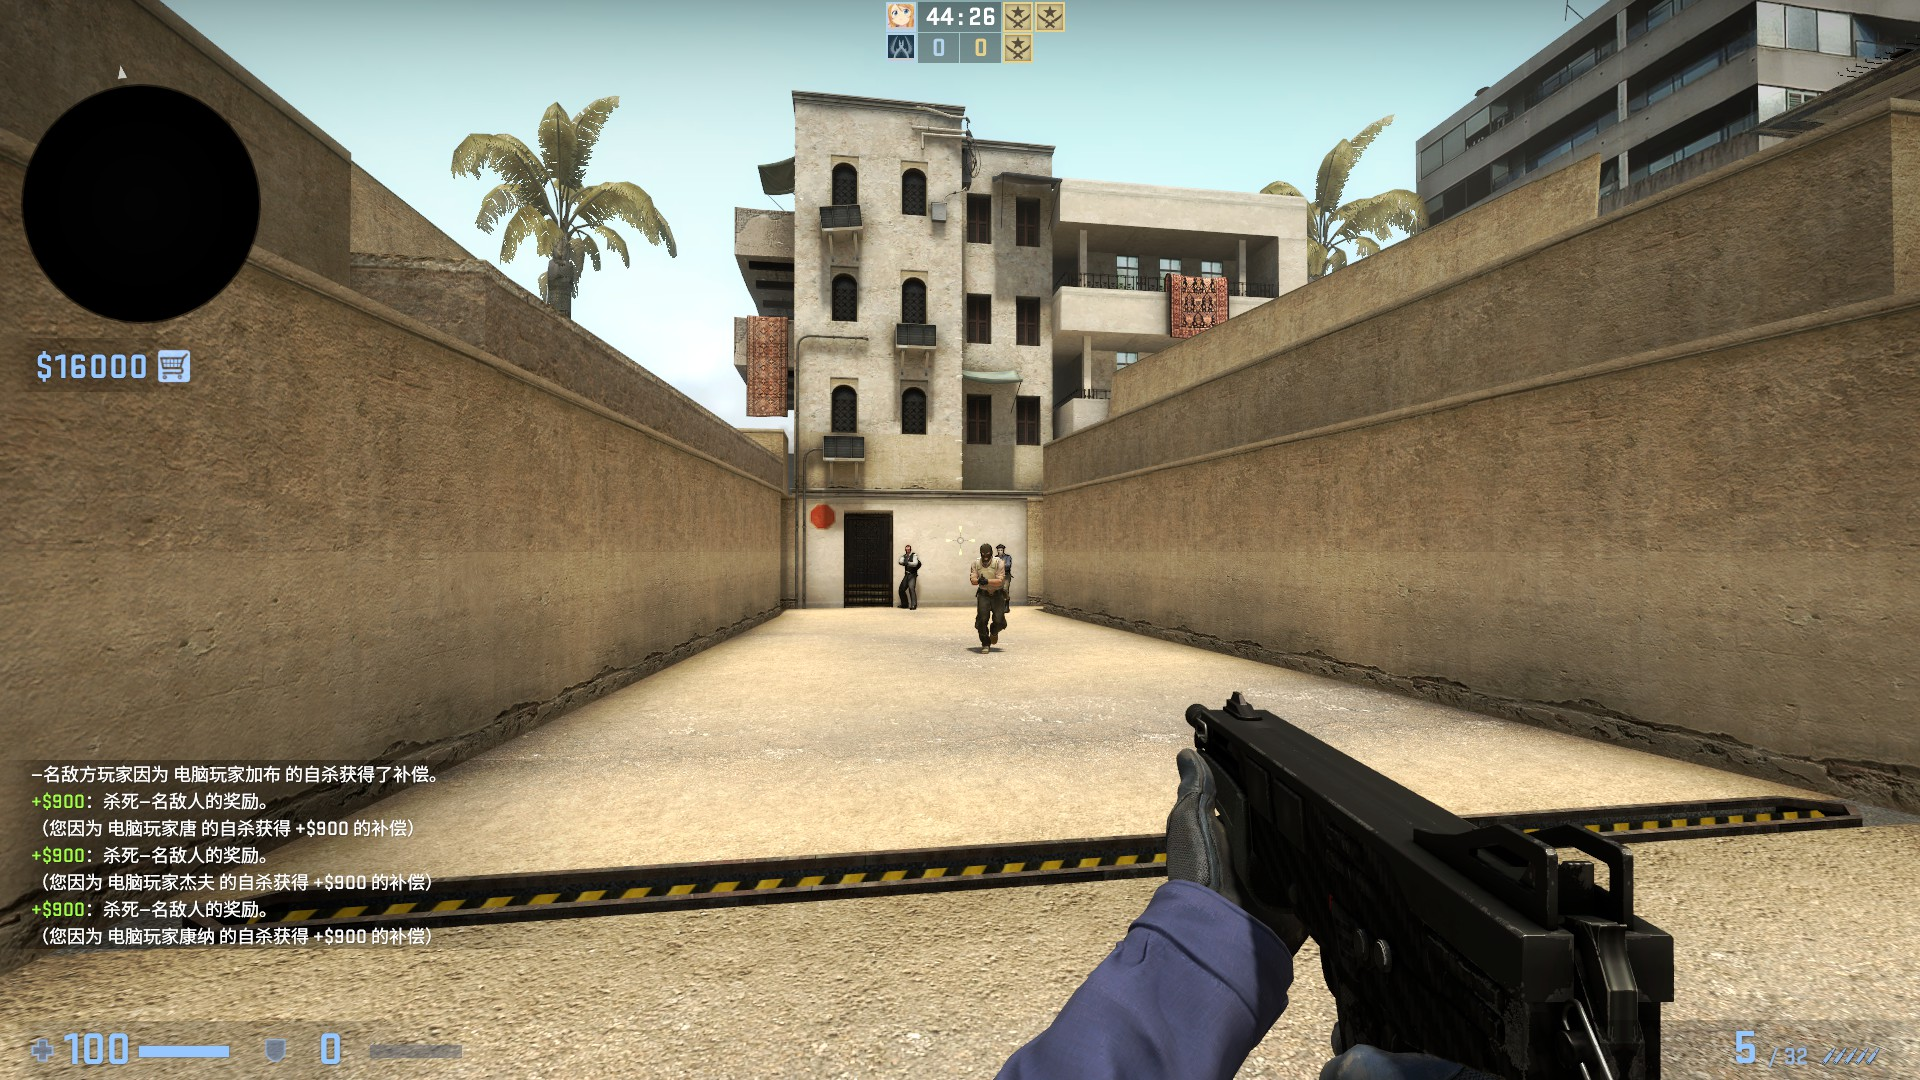head: (976, 542, 992, 563), (994, 542, 1005, 556), (902, 543, 912, 556)
